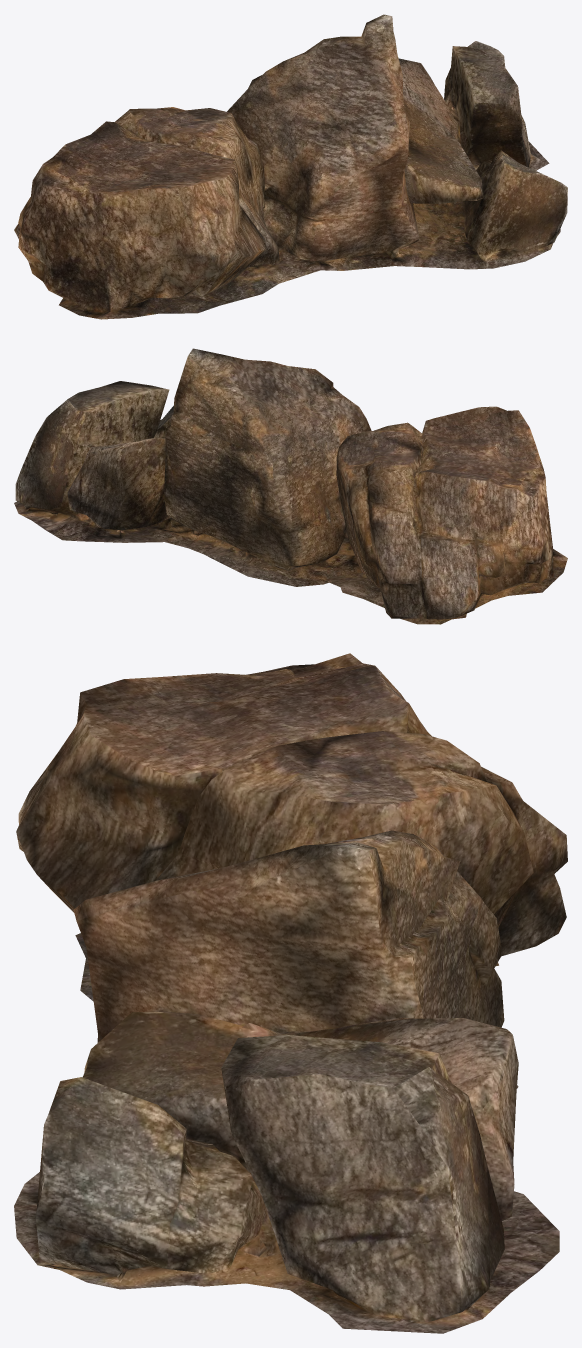
Rendered from boulder.glb.
3 views of the same model, one above another, from view 1: azimuth 30°, elevation 25°; view 2: azimuth 150°, elevation 25°; view 3: azimuth 270°, elevation 25° (orthographic). The views are drawn at different scales.
Visible parts, largest first — view 1: boulder_02; view 2: boulder_02; view 3: boulder_02.
Boxes of the visible parts, left/top/right/bottom form: boulder_02: left=14, top=14, right=567, bottom=319; boulder_02: left=14, top=348, right=567, bottom=624; boulder_02: left=14, top=653, right=567, bottom=1333.
Size of the model in its own units: 2.51 by 0.8788 by 1.23.
1 material, 1 textured.
